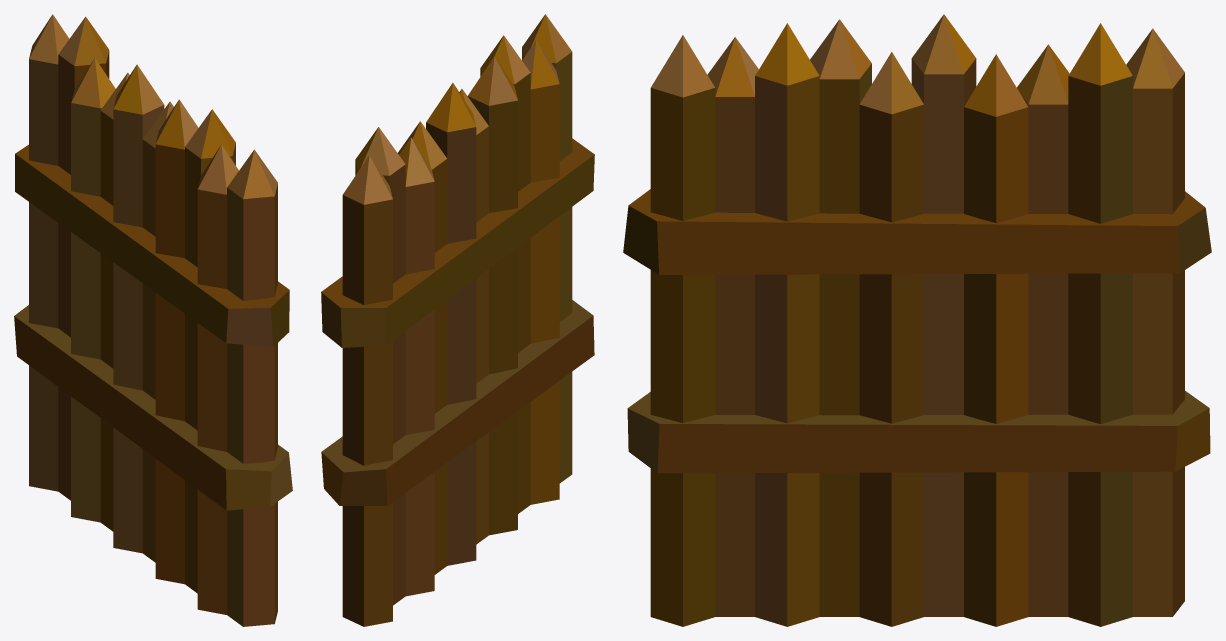
File: Palisade.glb
3 views of the same model, side by side, from view 1: azimuth 30°, elevation 25°; view 2: azimuth 150°, elevation 25°; view 3: azimuth 270°, elevation 25° (orthographic). The views are drawn at different scales.
Visible parts, largest first — view 1: Palisade; view 2: Palisade; view 3: Palisade.
Boxes of the visible parts, bbox=[...] form: Palisade: bbox=[14, 14, 292, 626]; Palisade: bbox=[321, 14, 594, 626]; Palisade: bbox=[623, 14, 1211, 626].
Size of the model in its own units: 0.3377 by 2.27 by 2.05.
